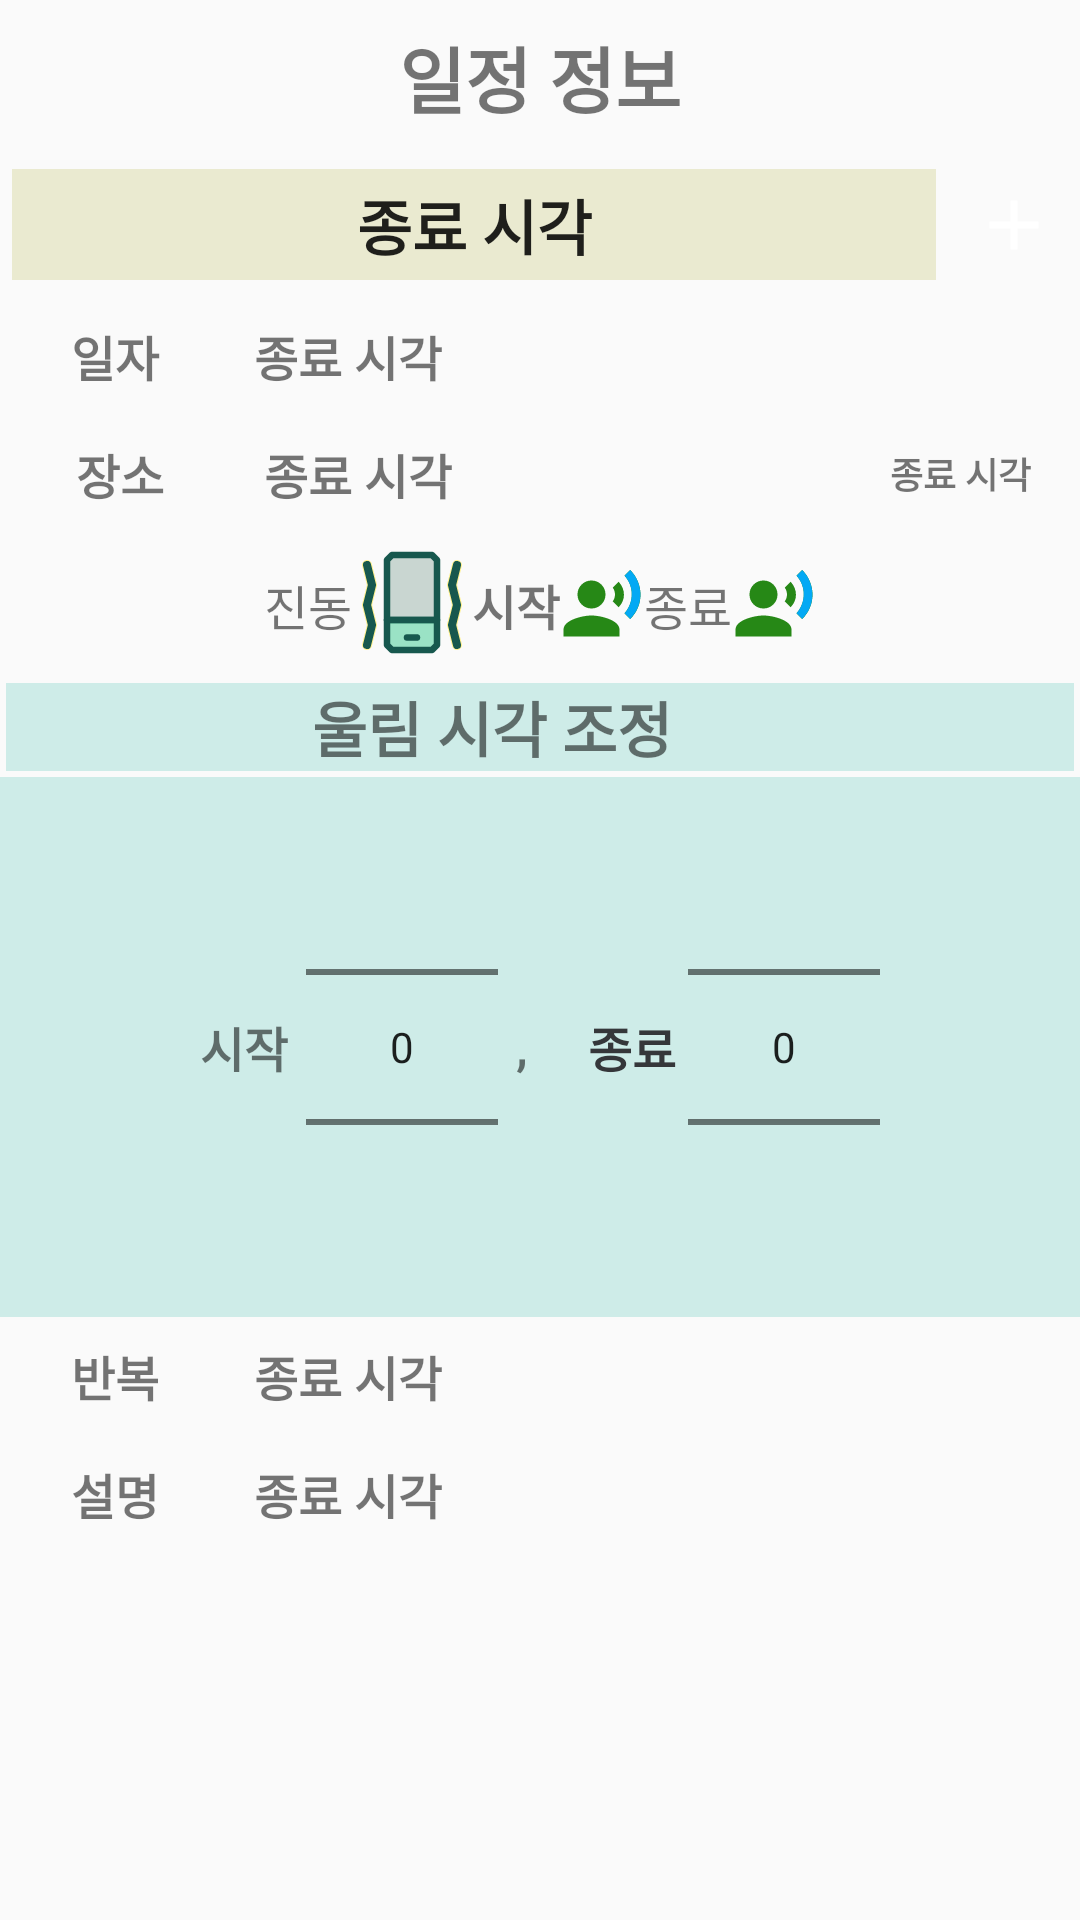

Named icons in this screenshot (1080px×1920px) and their bounding boxes, (x1,y1,x2,y2):
phone vibrate: (362,551,462,654)
speak on: (563,570,641,637), (735,570,813,637)
